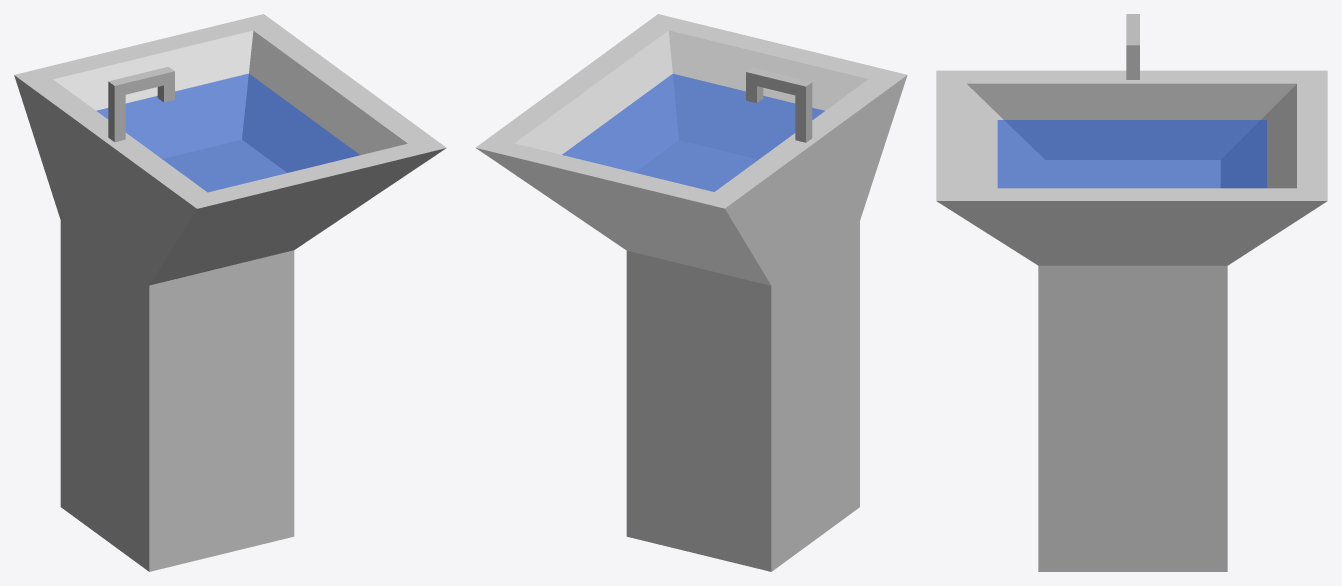
Rendered from bathroom_sink_1.BYWNpvBH.glb.
3 renders of one model, left to right at view 1: azimuth 30°, elevation 25°; view 2: azimuth 150°, elevation 25°; view 3: azimuth 270°, elevation 25°, orthographic. The views are drawn at different scales.
Parts seen in each view (by area): view 1: Würfel.004, water, Würfel; view 2: Würfel.004, water, Würfel; view 3: Würfel.004, water, Würfel.
Part boxes in pixels (<box>): Würfel.004: <box>14,14,446,571</box>; water: <box>96,73,359,192</box>; Würfel: <box>108,66,174,141</box>; Würfel.004: <box>475,14,907,571</box>; water: <box>562,74,824,191</box>; Würfel: <box>746,67,812,142</box>; Würfel.004: <box>936,70,1327,571</box>; water: <box>997,120,1266,188</box>; Würfel: <box>1126,14,1139,79</box>.
Bounding box in the file's own units: 0.4564 × 0.793 × 0.579.
